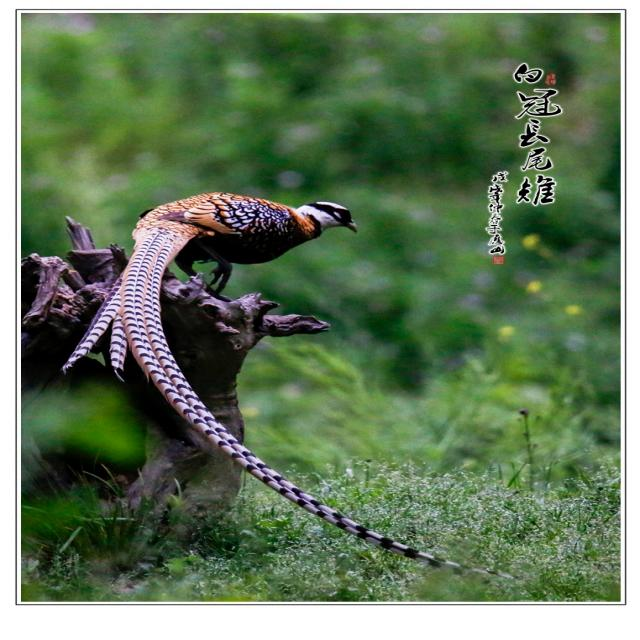Reeves-s Pheasant: (62, 227, 527, 579)
